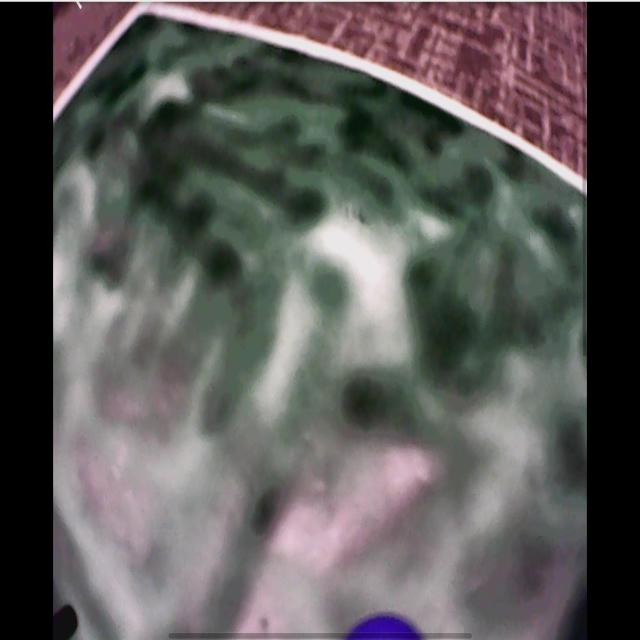ball: (348, 616, 425, 640)
